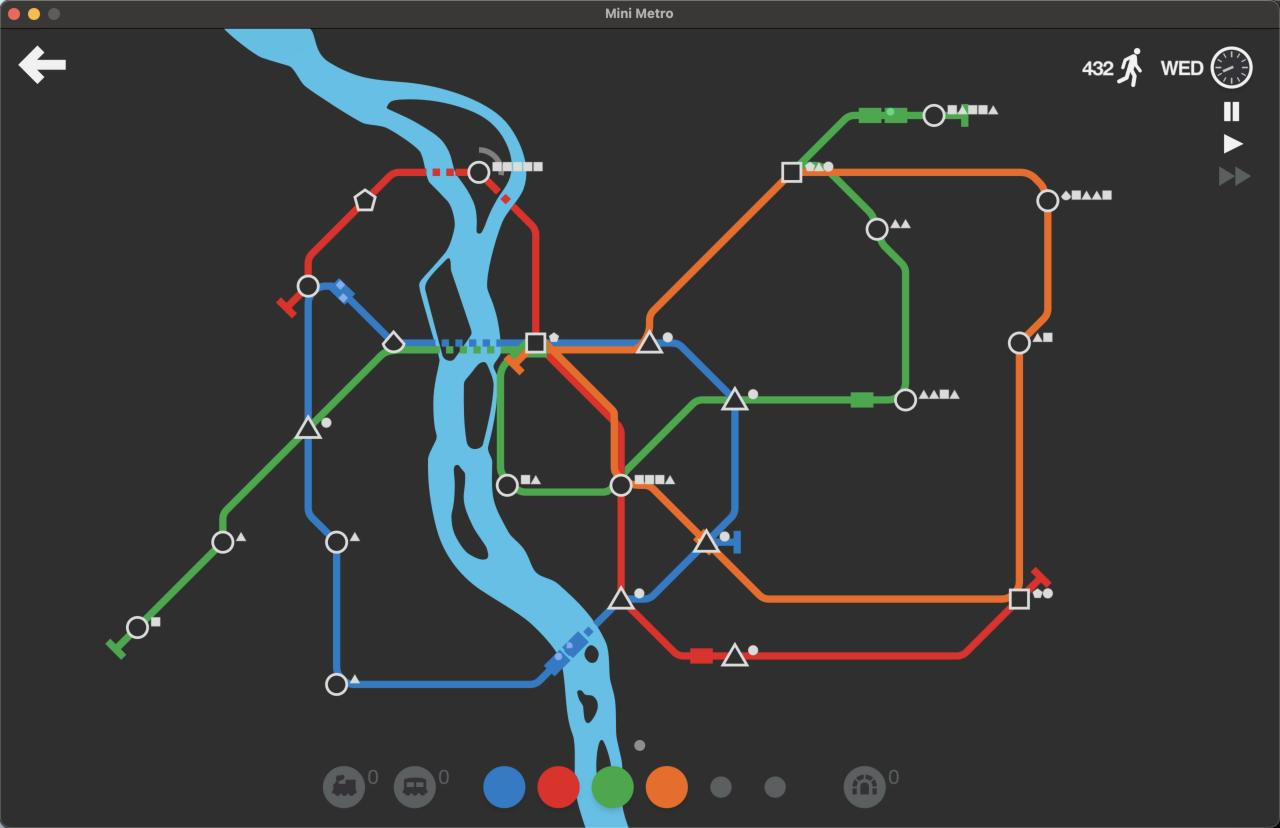CIRCLE: (324, 672, 349, 697), (609, 473, 634, 497), (467, 160, 491, 184), (211, 530, 235, 554), (325, 530, 349, 554), (495, 473, 519, 497), (865, 217, 889, 241), (922, 104, 946, 127), (126, 615, 149, 639), (894, 388, 917, 412), (1036, 189, 1059, 213), (1008, 331, 1031, 355), (297, 274, 319, 298)
PENTAGON: (354, 188, 376, 212)
SQUARE: (524, 331, 547, 355), (780, 161, 802, 183), (1008, 588, 1030, 610)
TRIANGLE: (693, 528, 721, 555), (721, 641, 749, 668), (294, 415, 322, 441), (721, 386, 749, 412), (636, 328, 664, 354), (607, 587, 636, 611)
WEDGE: (382, 330, 405, 354)
